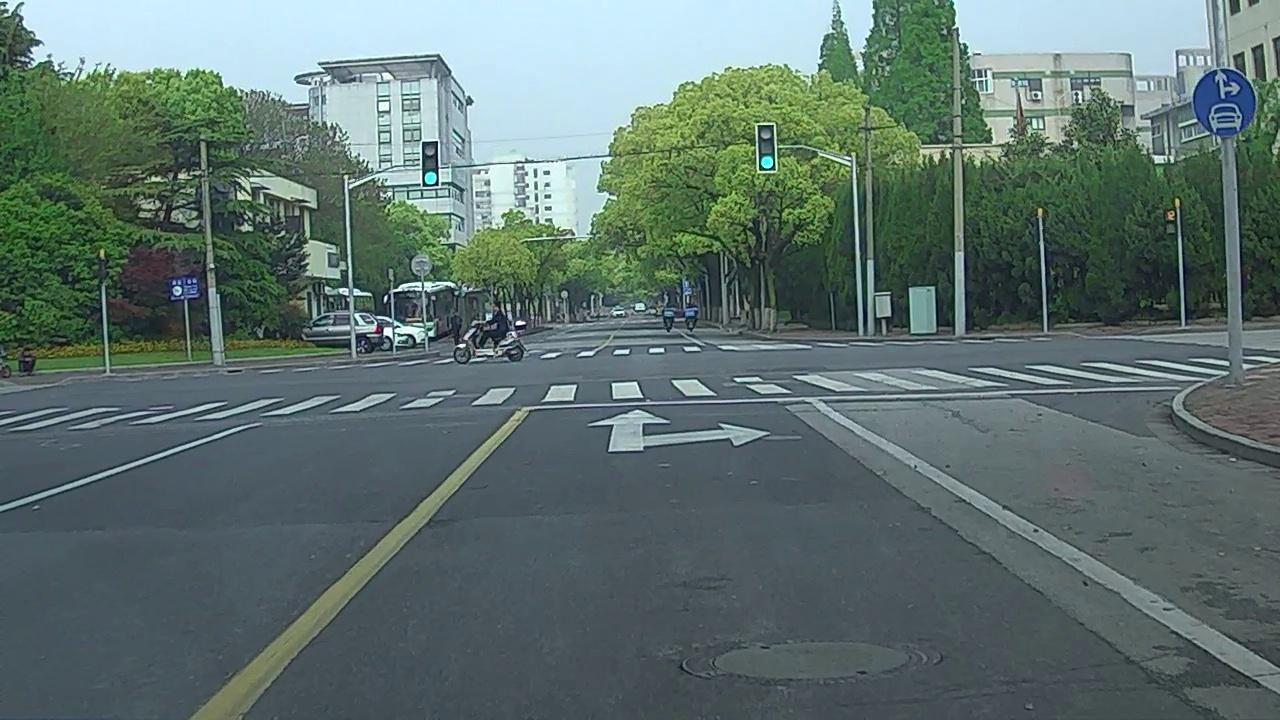traffic_light: (756, 123, 777, 173), (421, 141, 439, 188)
